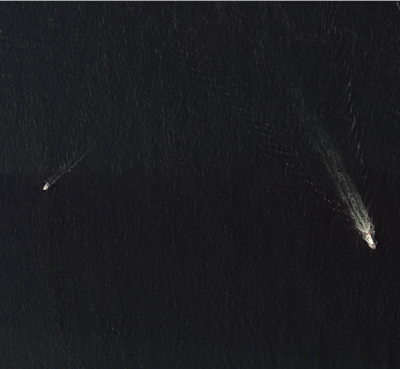boat: (366, 232, 376, 249), (43, 182, 51, 190)
